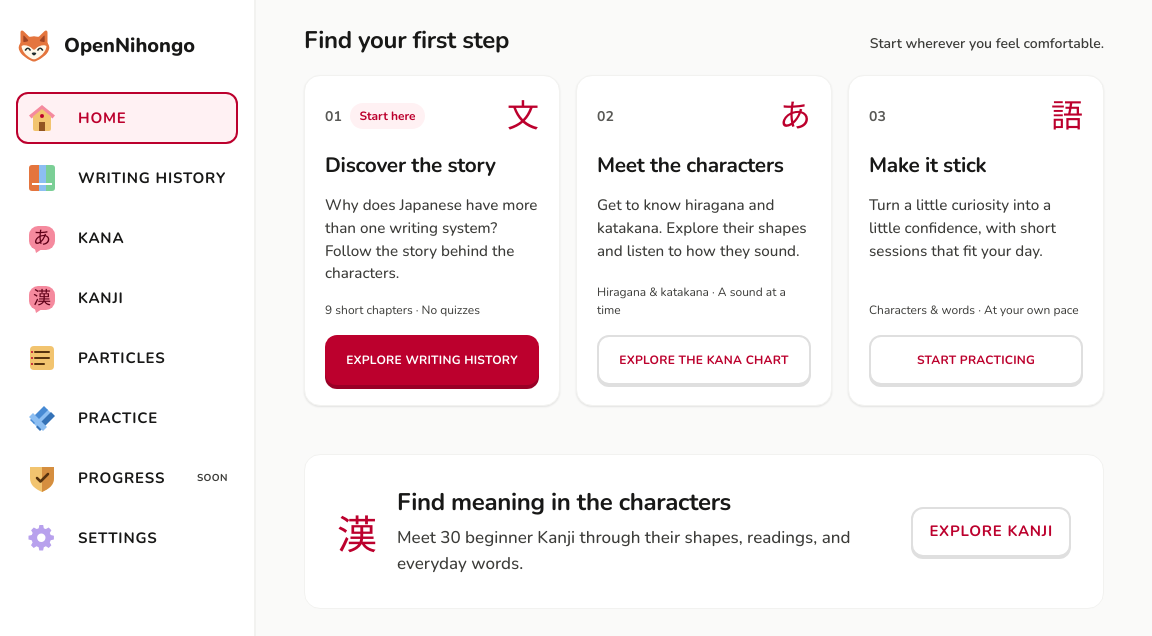
Scenario: welcomes learners and offers an ordered, optional path into history, characters, and practice
The width and height of the screenshot is (1152, 636).
(page scrolled)
Check: the heading "Discover the story" is shown, box [325,151,496,179]
Check: the heading "Meet the characters" is shown, box [597,152,811,178]
Click the link "Explore the Kana chart": (704, 360) [597,335,811,385]
(page scrolled)
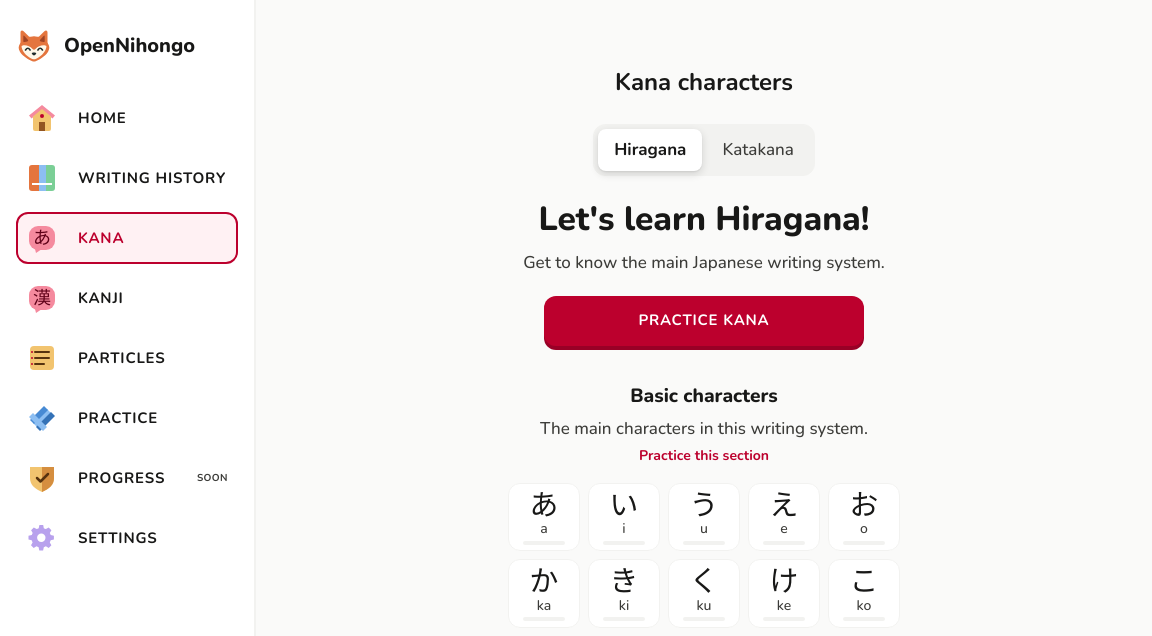
Check: the heading "Kana characters" is shown, box [615,66,793,98]
